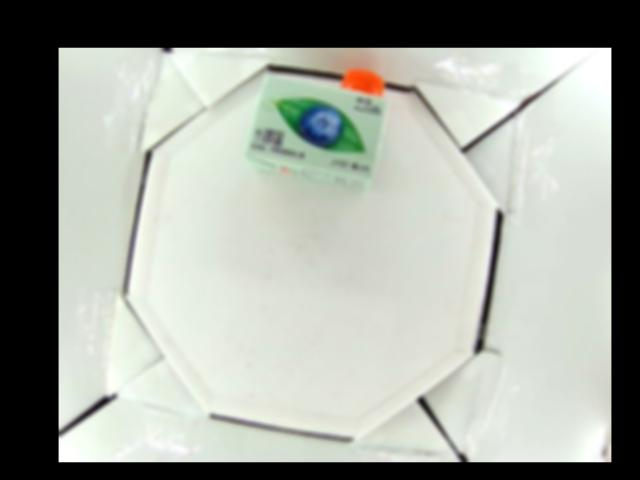Bottle: (242, 58, 391, 191)
